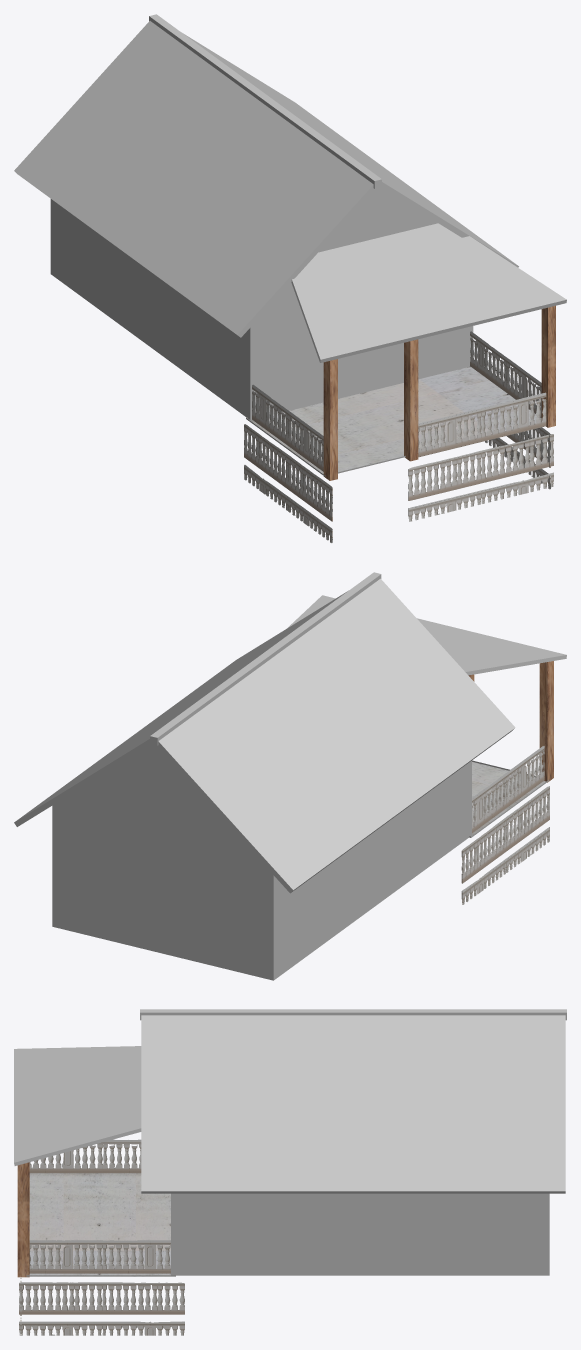
Rendered from rumah betawi revisi.fbx.
The picture shows the model from 3 angles, top to bottom: view 1: azimuth 30°, elevation 25°; view 2: azimuth 150°, elevation 25°; view 3: azimuth 270°, elevation 25°; orthographic projection. The views are drawn at different scales.
Visible parts, largest first — view 1: Cube.007, Cube, Cube.008, Cube.006, pagar smen pngggg, pagar smen pngggg.002, Cube.002, pagar smen pngggg.001, Cube.001, Cube.005, Cube.003, Cube.004; view 2: Cube.007, Cube, pagar smen pngggg.002, Cube.002, Cube.008, Cube.001, Cube.003, Cube.006; view 3: Cube.002, Cube, Cube.008, Cube.006, pagar smen pngggg.001, Cube.001, pagar smen pngggg.002, Cube.004.
Part boxes in pixels (<box>): Cube.007: <box>14,21,375,337</box>; Cube: <box>50,187,473,420</box>; Cube.008: <box>291,223,566,362</box>; Cube.006: <box>246,366,541,476</box>; pagar smen pngggg: <box>408,392,553,521</box>; pagar smen pngggg.002: <box>244,384,332,543</box>; Cube.002: <box>183,33,518,267</box>; pagar smen pngggg.001: <box>470,331,550,489</box>; Cube.001: <box>149,14,381,188</box>; Cube.005: <box>404,339,418,461</box>; Cube.003: <box>323,359,337,480</box>; Cube.004: <box>541,305,555,427</box>; Cube.007: <box>156,578,515,893</box>; Cube: <box>52,744,471,980</box>; pagar smen pngggg.002: <box>461,746,549,904</box>; Cube.002: <box>14,590,348,826</box>; Cube.008: <box>287,595,566,675</box>; Cube.001: <box>150,572,381,745</box>; Cube.003: <box>539,661,553,782</box>; Cube.006: <box>469,760,549,837</box>; Cube.002: <box>141,1015,565,1193</box>; Cube: <box>171,1193,549,1275</box>; Cube.008: <box>14,1046,141,1165</box>; Cube.006: <box>26,1173,175,1276</box>; pagar smen pngggg.001: <box>19,1240,184,1335</box>; Cube.001: <box>140,1009,566,1020</box>; pagar smen pngggg.002: <box>29,1139,141,1173</box>; Cube.004: <box>17,1162,29,1277</box>.
Bounding box in the file's own units: 981 × 966 × 1763.
